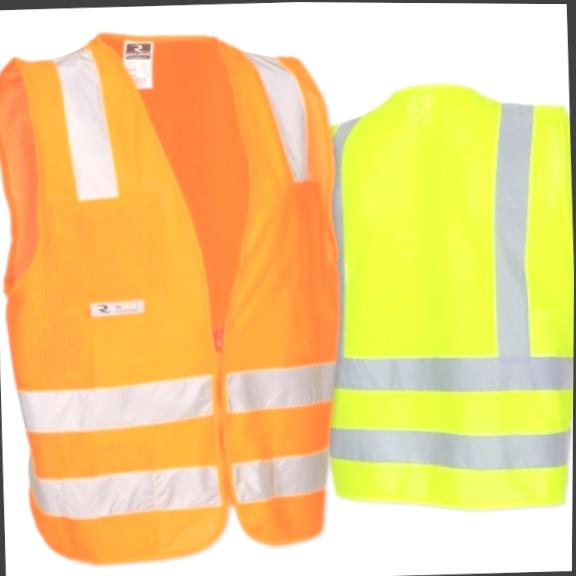safety_vest: (0, 24, 353, 571), (311, 79, 575, 517)
